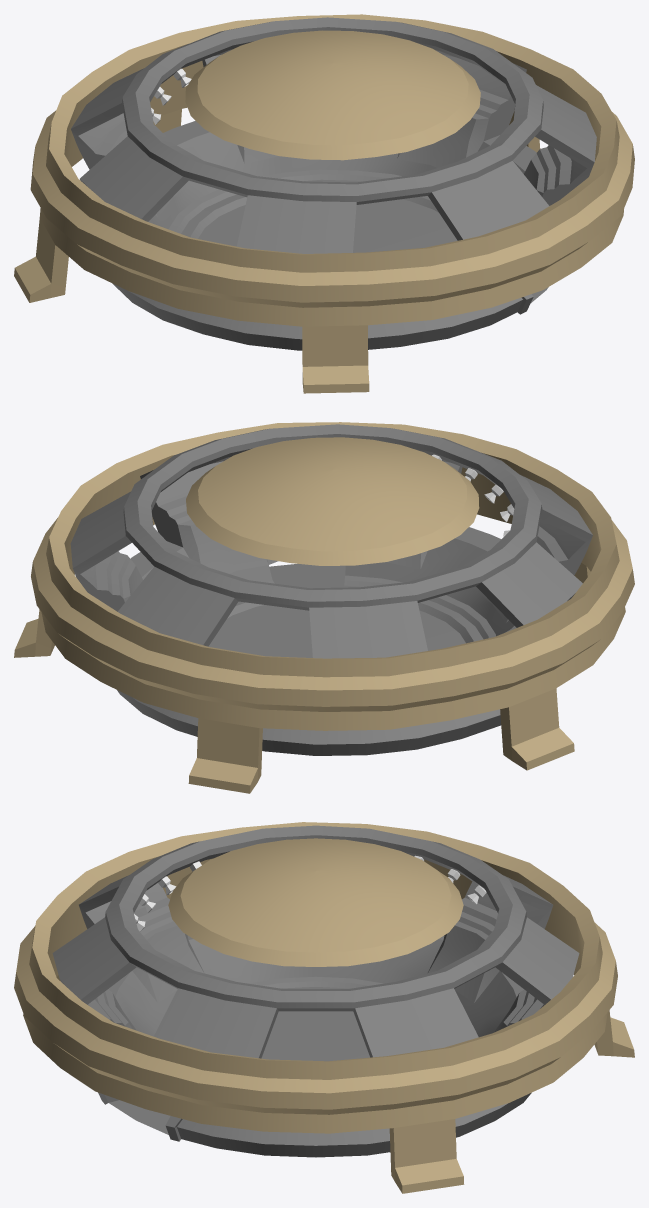
File: Arena_beta.fbx
3 renders of one model, top to bottom at view 1: azimuth 30°, elevation 25°; view 2: azimuth 150°, elevation 25°; view 3: azimuth 270°, elevation 25°, orthographic.
Visible parts, largest first — view 1: ArenaExterior, Arena; view 2: ArenaExterior, Arena; view 3: ArenaExterior, Arena.
Boxes of the visible parts, x1,y1,x2,y2 form: ArenaExterior: (14, 14, 634, 393); Arena: (71, 17, 596, 350); ArenaExterior: (14, 422, 634, 793); Arena: (70, 424, 592, 755); ArenaExterior: (14, 822, 634, 1193); Arena: (52, 825, 579, 1157).
Bounding box in the file's own units: 349 × 121 × 350.
